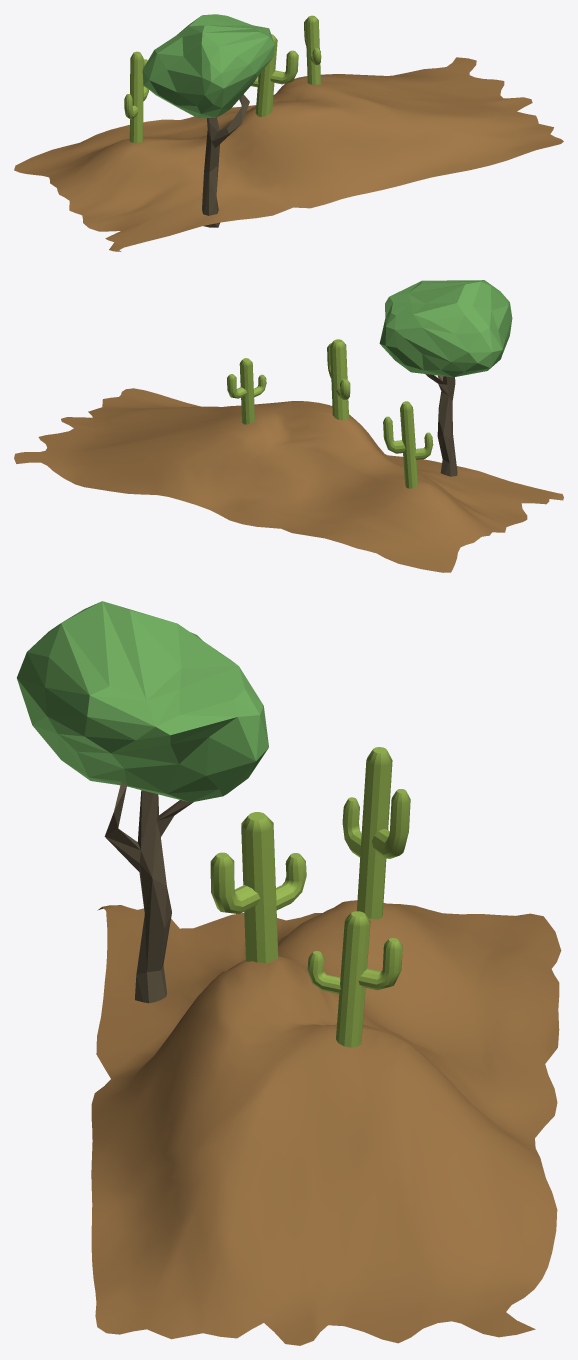
File: midground3.fbx
The picture shows the model from 3 angles, top to bottom: view 1: azimuth 30°, elevation 25°; view 2: azimuth 150°, elevation 25°; view 3: azimuth 270°, elevation 25°; orthographic projection. The views are drawn at different scales.
Visible parts, largest first — view 1: treeHigh:Group44249; view 2: treeHigh:Group44249; view 3: treeHigh:Group44249.
Part boxes in pixels (left/top/right/bottom): treeHigh:Group44249: left=14, top=14, right=563, bottom=251; treeHigh:Group44249: left=14, top=280, right=563, bottom=572; treeHigh:Group44249: left=17, top=601, right=561, bottom=1345.
Bounding box in the file's own units: 547 × 234 × 282.
